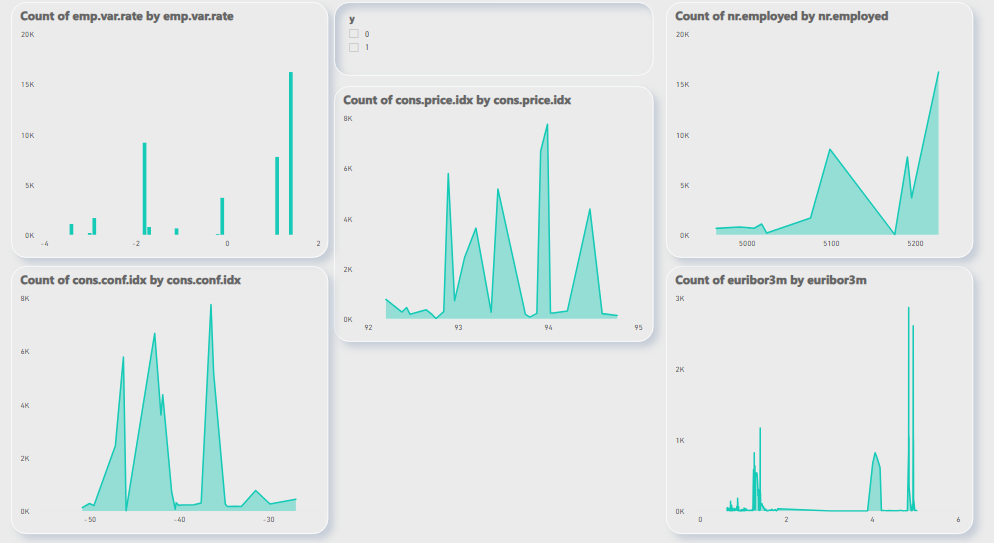

What the dashboard file says about the page in this screenshot:
{"tool":"powerbi","page":{"name":"Social and Economic","canvas":[1280,720],"ordinal":3},"visuals":[{"type":"clusteredColumnChart","fields":{"Category":["bank-addition-full-update.emp.var.rate"],"Y":["CountNonNull(bank-addition-full-update.emp.var.rate)"]},"box":[11.8,16.2,412.9,333.3],"z":0},{"type":"areaChart","fields":{"Category":["bank-addition-full-update.cons.price.idx"],"Y":["CountNonNull(bank-addition-full-update.cons.price.idx)"]},"box":[432.1,125.3,415.9,333.3],"z":1000},{"type":"areaChart","fields":{"Category":["bank-addition-full-update.cons.conf.idx"],"Y":["CountNonNull(bank-addition-full-update.cons.conf.idx)"]},"box":[11.8,359.8,412.9,349.5],"z":2000},{"type":"areaChart","fields":{"Category":["bank-addition-full-update.euribor3m"],"Y":["CountNonNull(bank-addition-full-update.euribor3m)"]},"box":[864.1,359.8,399.6,349.5],"z":3000},{"type":"areaChart","fields":{"Category":["bank-addition-full-update.nr.employed"],"Y":["CountNonNull(bank-addition-full-update.nr.employed)"]},"box":[864.1,16.2,399.6,333.3],"z":4000},{"type":"slicer","fields":{"Values":["bank-addition-full-update.y"]},"box":[432.1,16.2,415.9,95.9],"z":5000}]}

Visuals, with their boxes in screenshot pixels (x1, y1, x2, y2), scaled from the page's 1280x720 canvas onto the 994x543 screenshot:
clusteredColumnChart - bank-addition-full-update.emp.var.rate x CountNonNull(bank-addition-full-update.emp.var.rate): box=[9, 12, 330, 264]
areaChart - bank-addition-full-update.cons.price.idx x CountNonNull(bank-addition-full-update.cons.price.idx): box=[336, 94, 659, 346]
areaChart - bank-addition-full-update.cons.conf.idx x CountNonNull(bank-addition-full-update.cons.conf.idx): box=[9, 271, 330, 535]
areaChart - bank-addition-full-update.euribor3m x CountNonNull(bank-addition-full-update.euribor3m): box=[671, 271, 981, 535]
areaChart - bank-addition-full-update.nr.employed x CountNonNull(bank-addition-full-update.nr.employed): box=[671, 12, 981, 264]
slicer - bank-addition-full-update.y: box=[336, 12, 659, 85]
